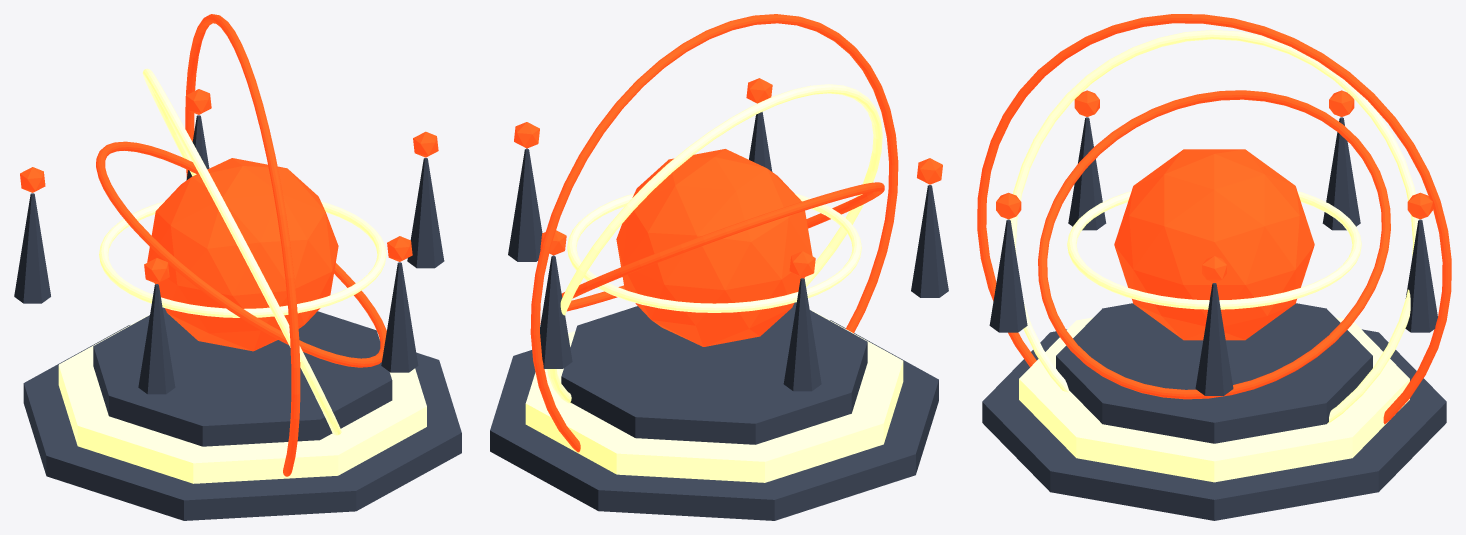
File: gpu-blender-v11.glb
3 views of the same model, side by side, from view 1: azimuth 30°, elevation 25°; view 2: azimuth 150°, elevation 25°; view 3: azimuth 270°, elevation 25° (orthographic). The views are drawn at different scales.
Parts seen in each view (by area): view 1: Cylinder.002, SovereignCore_shopify-connector, Cylinder, Cylinder.001, Torus.003, Torus.001, Torus.002, Torus, Cone.003, Cone.004, Cone.002, Cone (+5 smaller); view 2: Cylinder.002, SovereignCore_shopify-connector, Cylinder, Cylinder.001, Torus.003, Torus.002, Torus, Torus.001, Cone.002, Cone.003, Cone, Cone.001 (+4 smaller); view 3: SovereignCore_shopify-connector, Cylinder.002, Cylinder, Cylinder.001, Torus.003, Torus.001, Torus.002, Torus, Cone.004, Cone, Cone.001, Cone.002 (+2 smaller).
Part boxes in pixels (x1=…): Cylinder.002: x1=93, y1=307, x2=392, y2=446; SovereignCore_shopify-connector: x1=147, y1=158, x2=338, y2=351; Cylinder: x1=23, y1=325, x2=461, y2=520; Cylinder.001: x1=58, y1=315, x2=426, y2=483; Torus.003: x1=185, y1=14, x2=300, y2=476; Torus.001: x1=96, y1=141, x2=386, y2=367; Torus.002: x1=142, y1=68, x2=341, y2=435; Torus: x1=99, y1=201, x2=386, y2=317; Cone.003: x1=138, y1=284, x2=175, y2=394; Cone.004: x1=381, y1=262, x2=418, y2=372; Cone.002: x1=14, y1=193, x2=50, y2=303; Cone: x1=407, y1=158, x2=444, y2=268; Cylinder.002: x1=561, y1=302, x2=867, y2=444; SovereignCore_shopify-connector: x1=616, y1=149, x2=812, y2=346; Cylinder: x1=490, y1=320, x2=938, y2=520; Cylinder.001: x1=525, y1=310, x2=903, y2=482; Torus.003: x1=530, y1=14, x2=898, y2=452; Torus.002: x1=547, y1=84, x2=882, y2=403; Torus: x1=567, y1=193, x2=861, y2=312; Torus.001: x1=561, y1=182, x2=884, y2=311; Cone.002: x1=783, y1=278, x2=821, y2=391; Cone.003: x1=911, y1=185, x2=948, y2=297; Cone: x1=508, y1=148, x2=542, y2=261; Cone.001: x1=540, y1=255, x2=572, y2=368; SovereignCore_shopify-connector: x1=1114, y1=149, x2=1314, y2=340; Cylinder.002: x1=1056, y1=303, x2=1372, y2=443; Cylinder: x1=982, y1=329, x2=1446, y2=520; Cylinder.001: x1=1019, y1=317, x2=1409, y2=482; Torus.003: x1=977, y1=14, x2=1451, y2=424; Torus.001: x1=1038, y1=90, x2=1390, y2=399; Torus.002: x1=1008, y1=30, x2=1420, y2=422; Torus: x1=1067, y1=191, x2=1361, y2=309; Cone.004: x1=989, y1=219, x2=1027, y2=332; Cone: x1=1195, y1=283, x2=1233, y2=395; Cone.001: x1=1405, y1=219, x2=1437, y2=332; Cone.002: x1=1322, y1=117, x2=1360, y2=230.
Size of the model in its own units: 4.41 by 4.7 by 4.49.
